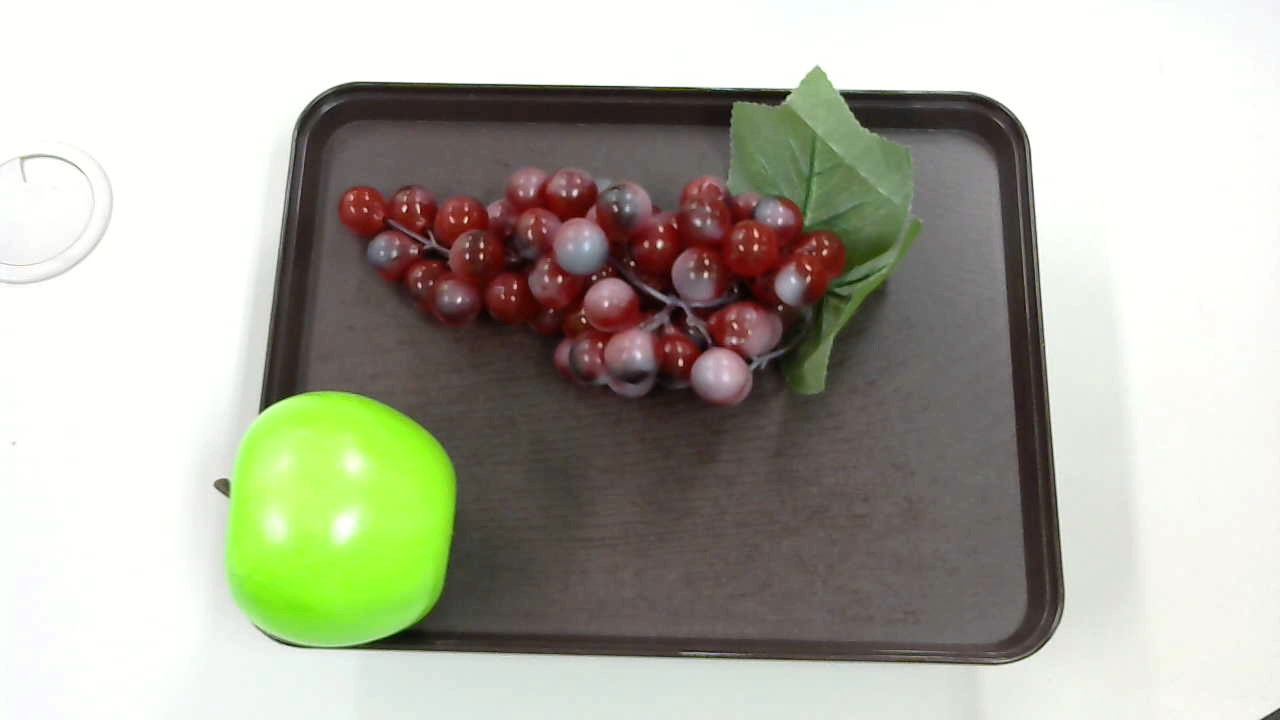grape: (339, 68, 927, 400)
green apple: (215, 385, 457, 651)
